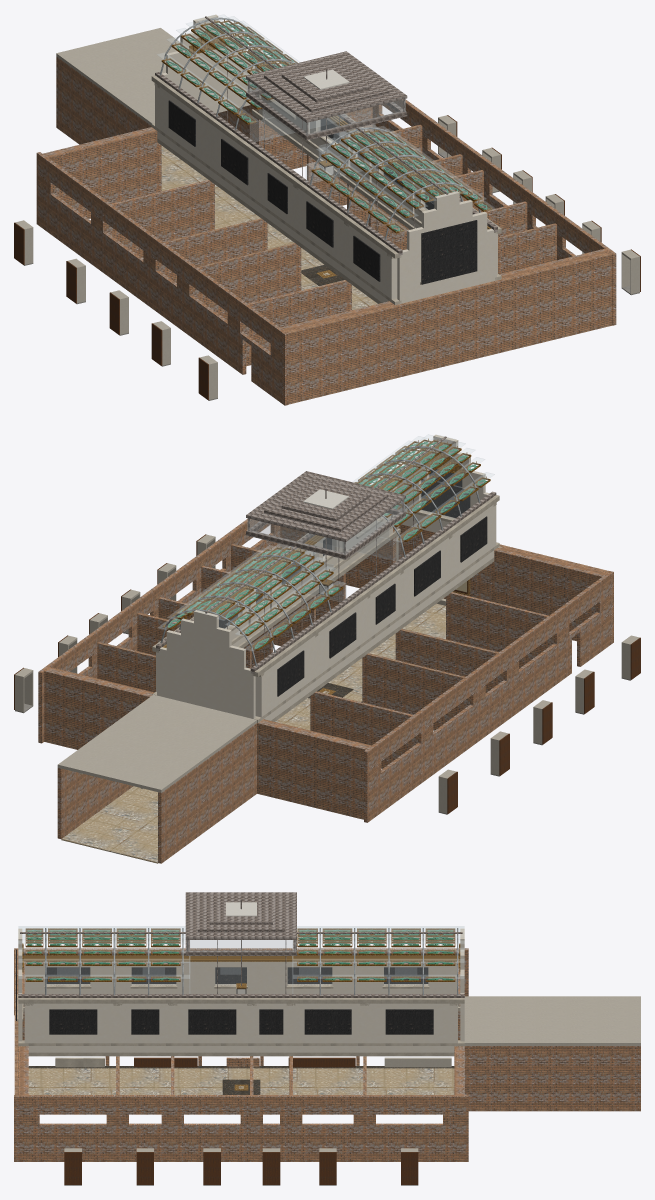
The model's file is passage.gltf.
3 renders of one model, top to bottom at view 1: azimuth 30°, elevation 25°; view 2: azimuth 150°, elevation 25°; view 3: azimuth 270°, elevation 25°, orthographic. The views are drawn at different scales.
Visible parts, largest first — view 1: F01_OWN_PASSAGE_retail_passage_shell_common_brick-col, F01_OWN_PASSAGE_retail_passage_shell_plaster-col, F01_OWN_PASSAGE_retail_passage_shell_glassish-col, F01_OWN_PASSAGE_retail_passage_shell_plaster_stained-col, F01_OWN_PASSAGE_retail_passage_shell_cast_iron-col, V2_PASSAGE_finish_ceiling_brass, F01_OWN_PASSAGE_retail_passage_shell_soot-col, F01_OWN_PASSAGE_retail_passage_shell_limestone-col, V2_PASSAGE_finish_ceiling_teal, F01_OWN_PASSAGE_retail_passage_shell_terrazzo-col, F01_OWN_PASSAGE_retail_passage_shell_wood_dark-col, F01_OWN_PASSAGE_retail_passage_shell_metal (+3 smaller); view 2: F01_OWN_PASSAGE_retail_passage_shell_common_brick-col, F01_OWN_PASSAGE_retail_passage_shell_plaster-col, F01_OWN_PASSAGE_retail_passage_shell_glassish-col, F01_OWN_PASSAGE_retail_passage_shell_plaster_stained-col, F01_OWN_PASSAGE_retail_passage_shell_cast_iron-col, V2_PASSAGE_finish_ceiling_brass, F01_OWN_PASSAGE_retail_passage_shell_terrazzo-col, F01_OWN_PASSAGE_retail_passage_shell_limestone-col, F01_OWN_PASSAGE_retail_passage_shell_soot-col, V2_PASSAGE_finish_ceiling_teal, F01_OWN_PASSAGE_retail_passage_shell_wood_dark-col, F01_OWN_PASSAGE_retail_passage_shell_metal (+3 smaller); view 3: F01_OWN_PASSAGE_retail_passage_shell_common_brick-col, F01_OWN_PASSAGE_retail_passage_shell_plaster-col, F01_OWN_PASSAGE_retail_passage_shell_glassish-col, F01_OWN_PASSAGE_retail_passage_shell_terrazzo-col, F01_OWN_PASSAGE_retail_passage_shell_soot-col, F01_OWN_PASSAGE_retail_passage_shell_plaster_stained-col, V2_PASSAGE_finish_ceiling_brass, F01_OWN_PASSAGE_retail_passage_shell_cast_iron-col, F01_OWN_PASSAGE_retail_passage_shell_limestone-col, V2_PASSAGE_finish_ceiling_teal, F01_OWN_PASSAGE_retail_passage_shell_wood_dark-col, V2_PASSAGE_finish_ceiling_ochre (+8 smaller).
Part boxes in pixels (x1,y1,x2,y2): F01_OWN_PASSAGE_retail_passage_shell_common_brick-col: (36,56,616,405); F01_OWN_PASSAGE_retail_passage_shell_plaster-col: (155,14,500,305); F01_OWN_PASSAGE_retail_passage_shell_glassish-col: (157,14,495,232); F01_OWN_PASSAGE_retail_passage_shell_plaster_stained-col: (15,28,639,399); F01_OWN_PASSAGE_retail_passage_shell_cast_iron-col: (155,50,497,255); V2_PASSAGE_finish_ceiling_brass: (161,19,492,233); F01_OWN_PASSAGE_retail_passage_shell_soot-col: (168,100,477,284); F01_OWN_PASSAGE_retail_passage_shell_limestone-col: (151,75,503,305); V2_PASSAGE_finish_ceiling_teal: (166,22,489,231); F01_OWN_PASSAGE_retail_passage_shell_terrazzo-col: (161,146,377,310); F01_OWN_PASSAGE_retail_passage_shell_wood_dark-col: (14,115,640,399); F01_OWN_PASSAGE_retail_passage_shell_metal: (160,17,480,239); F01_OWN_PASSAGE_retail_passage_shell_common_brick-col: (38,519,613,863); F01_OWN_PASSAGE_retail_passage_shell_plaster-col: (156,434,496,729); F01_OWN_PASSAGE_retail_passage_shell_glassish-col: (158,434,494,650); F01_OWN_PASSAGE_retail_passage_shell_plaster_stained-col: (15,534,639,813); F01_OWN_PASSAGE_retail_passage_shell_cast_iron-col: (156,469,496,673); V2_PASSAGE_finish_ceiling_brass: (162,438,490,650); F01_OWN_PASSAGE_retail_passage_shell_terrazzo-col: (61,603,445,863); F01_OWN_PASSAGE_retail_passage_shell_limestone-col: (152,478,501,733); F01_OWN_PASSAGE_retail_passage_shell_soot-col: (219,468,487,696); V2_PASSAGE_finish_ceiling_teal: (167,441,487,648); F01_OWN_PASSAGE_retail_passage_shell_wood_dark-col: (14,534,640,813); F01_OWN_PASSAGE_retail_passage_shell_metal: (160,446,480,666); F01_OWN_PASSAGE_retail_passage_shell_common_brick-col: (14,948,640,1161); F01_OWN_PASSAGE_retail_passage_shell_plaster-col: (18,928,464,1052); F01_OWN_PASSAGE_retail_passage_shell_glassish-col: (18,926,464,993); F01_OWN_PASSAGE_retail_passage_shell_terrazzo-col: (28,1068,454,1094); F01_OWN_PASSAGE_retail_passage_shell_soot-col: (16,949,433,1034); F01_OWN_PASSAGE_retail_passage_shell_plaster_stained-col: (64,996,640,1151); V2_PASSAGE_finish_ceiling_brass: (23,928,459,981); F01_OWN_PASSAGE_retail_passage_shell_cast_iron-col: (18,892,464,997); F01_OWN_PASSAGE_retail_passage_shell_limestone-col: (17,984,464,1056); V2_PASSAGE_finish_ceiling_teal: (27,929,453,980); F01_OWN_PASSAGE_retail_passage_shell_wood_dark-col: (64,1152,418,1184); V2_PASSAGE_finish_ceiling_ochre: (22,943,460,972).
Size of the model in its own units: 26.86 by 12.15 by 36.53.
21 materials, 20 textured.
